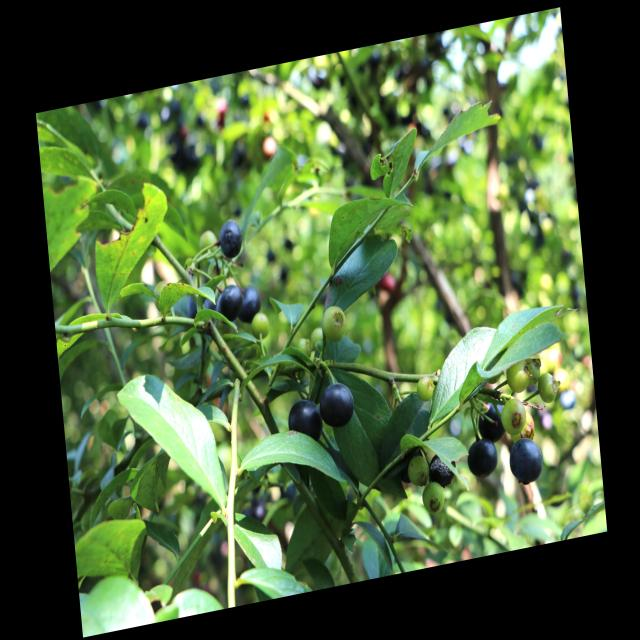blueberry: (508, 433, 547, 487), (322, 374, 356, 430), (287, 397, 325, 447), (464, 434, 500, 480), (215, 276, 244, 326), (426, 450, 461, 490), (477, 398, 508, 442), (217, 213, 244, 262), (236, 281, 264, 325)
blueberry-unripe: (320, 302, 350, 345), (499, 392, 526, 435), (419, 482, 448, 516), (504, 355, 528, 391), (536, 370, 558, 406), (249, 313, 270, 344), (409, 455, 429, 487), (523, 352, 542, 385), (416, 373, 436, 403), (294, 339, 311, 362), (310, 326, 324, 349)
